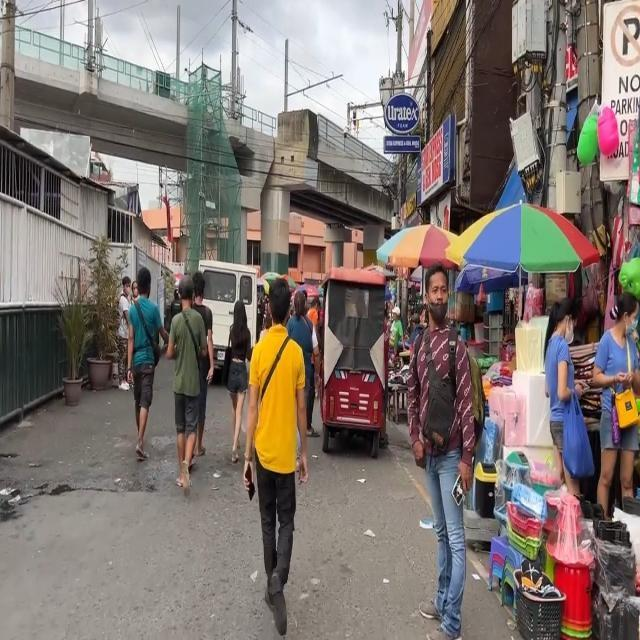hairnet: (426, 280, 449, 322)
